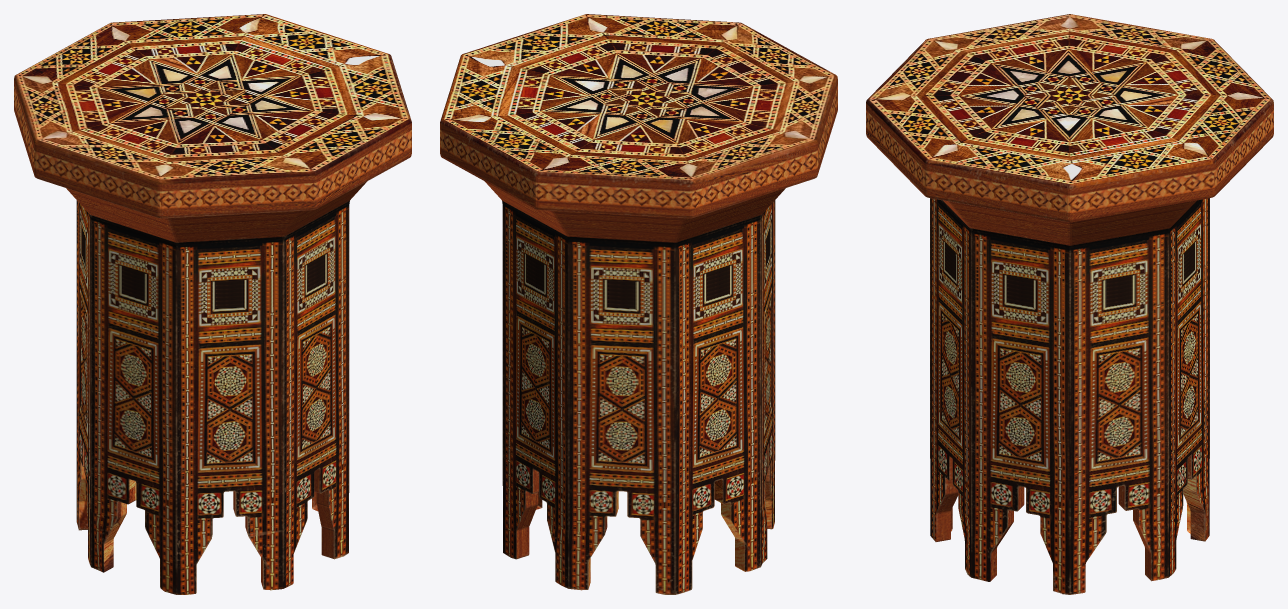
The model's file is middel_eastern_table.glb.
3 renders of one model, left to right at view 1: azimuth 30°, elevation 25°; view 2: azimuth 150°, elevation 25°; view 3: azimuth 270°, elevation 25°, orthographic.
Parts seen in each view (by area): view 1: damascus table; view 2: damascus table; view 3: damascus table.
Part boxes in pixels (x1,y1,x2,y2): damascus table: (14, 14, 411, 594); damascus table: (440, 14, 837, 594); damascus table: (866, 14, 1273, 594).
Bounding box in the file's own units: 1.59 × 1.89 × 1.59.
Materials: 1 (1 with a texture image).
